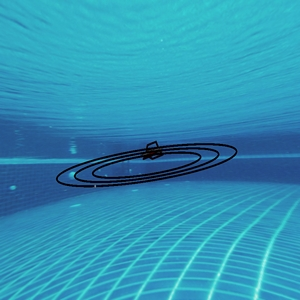circle: (47, 110, 243, 208)
submarine: (143, 142, 155, 164)
